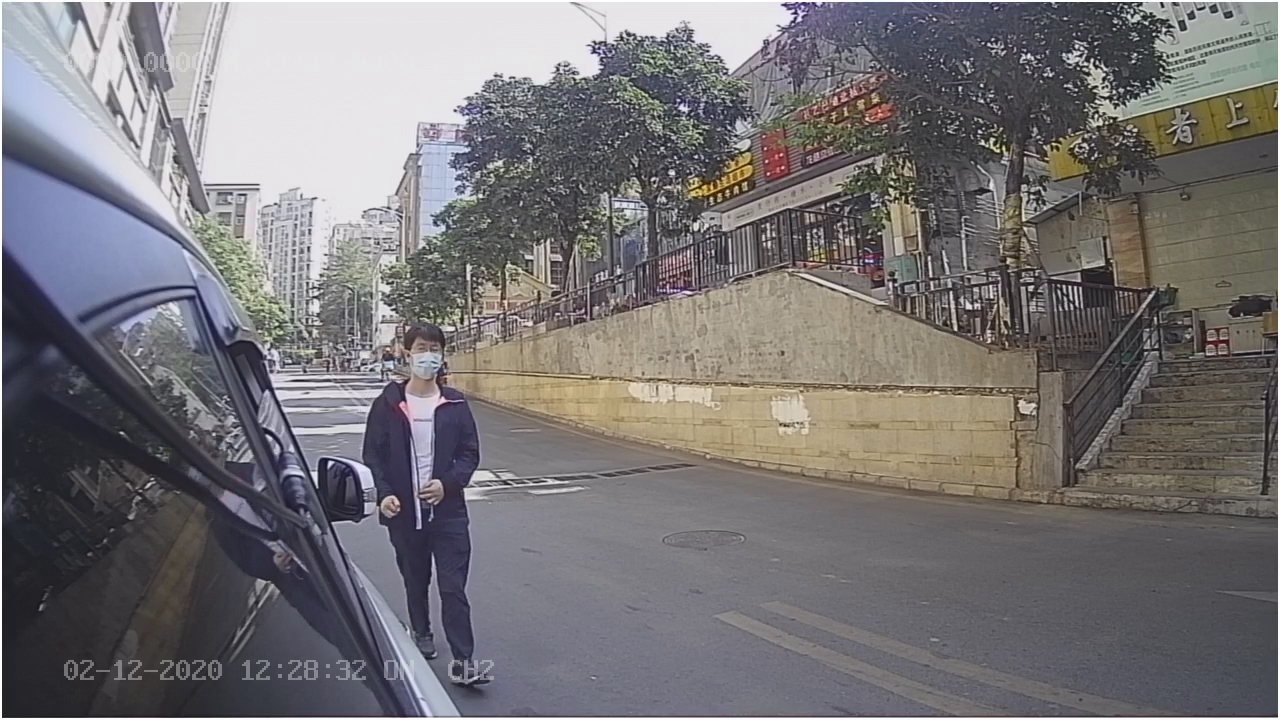person: (351, 312, 486, 450)
